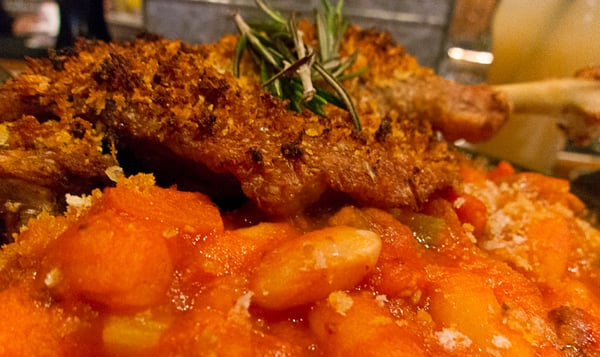pizza: (250, 226, 383, 314)
